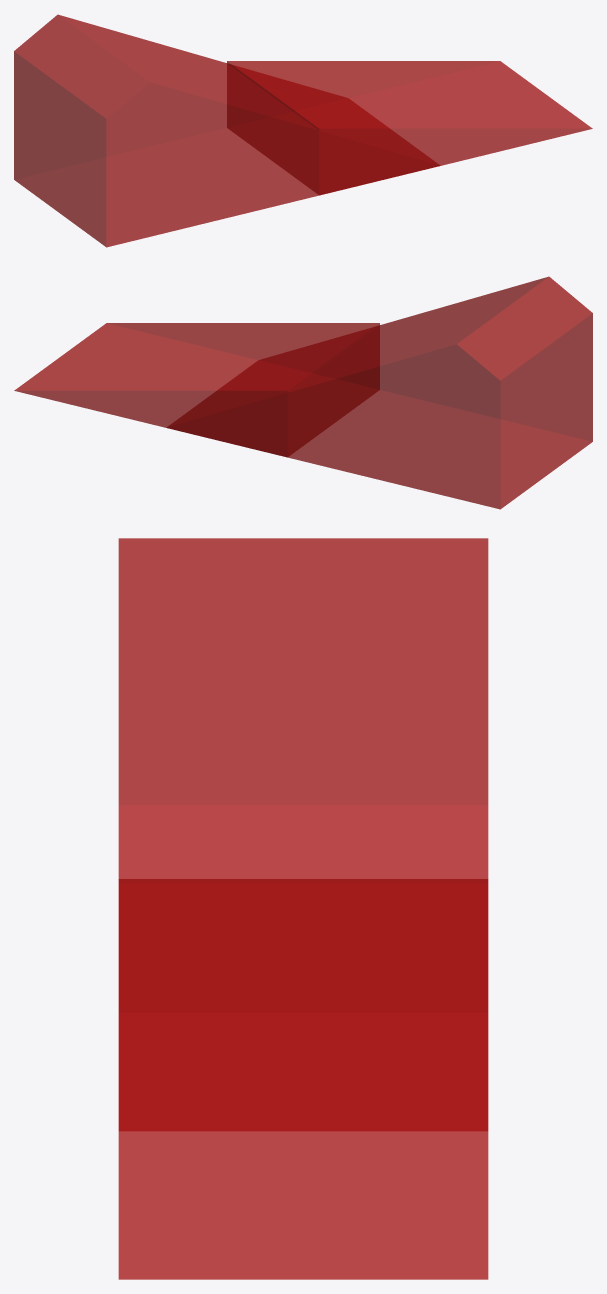
The model's file is SM_Prop_Ramp_02_Collision.fbx.
3 renders of one model, top to bottom at view 1: azimuth 30°, elevation 25°; view 2: azimuth 150°, elevation 25°; view 3: azimuth 270°, elevation 25°, orthographic. The views are drawn at different scales.
Parts seen in each view (by area): view 1: SM_Prop_Ramp_02_Collision; view 2: SM_Prop_Ramp_02_Collision; view 3: SM_Prop_Ramp_02_Collision.
Part boxes in pixels (<box>): SM_Prop_Ramp_02_Collision: <box>14,14,592,247</box>; SM_Prop_Ramp_02_Collision: <box>14,276,592,509</box>; SM_Prop_Ramp_02_Collision: <box>118,538,488,1279</box>.
Size of the model in its own units: 170 by 51.49 by 55.83.
